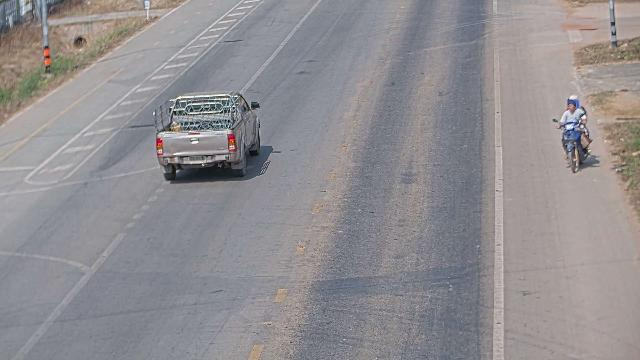motorcycle: (554, 107, 593, 176)
pickup-truck: (152, 90, 261, 181)
